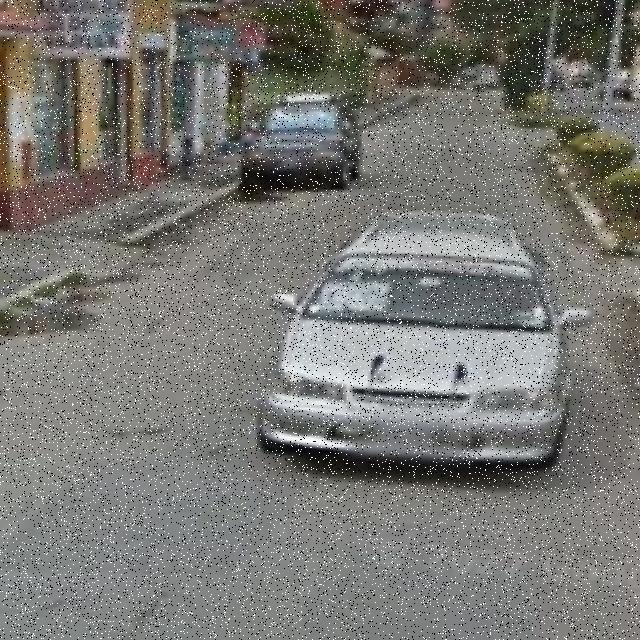cars: (312, 215, 579, 493), (246, 86, 356, 173)
